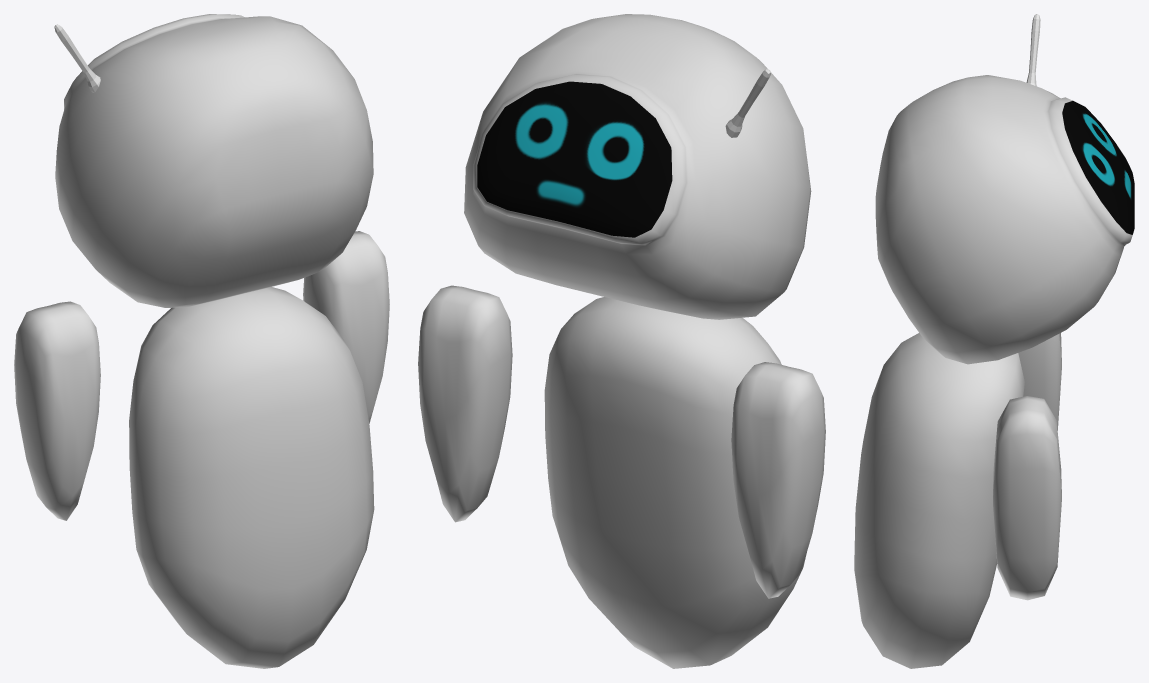
File: Player.fbx
3 renders of one model, left to right at view 1: azimuth 30°, elevation 25°; view 2: azimuth 150°, elevation 25°; view 3: azimuth 270°, elevation 25°, orthographic. The views are drawn at different scales.
Visible parts, largest first — view 1: Player_Body, Player_Arm_Left, Player_Arm_Right; view 2: Player_Body, Player_Arm_Right, Player_Arm_Left; view 3: Player_Body, Player_Arm_Right, Player_Arm_Left.
Part boxes in pixels (x1,y1,x2,y2): Player_Body: (54, 14, 374, 668); Player_Arm_Left: (14, 301, 100, 520); Player_Arm_Right: (303, 231, 389, 423); Player_Body: (464, 14, 811, 668); Player_Arm_Right: (418, 285, 512, 522); Player_Arm_Left: (731, 362, 825, 598); Player_Body: (854, 14, 1134, 668); Player_Arm_Right: (993, 396, 1061, 600); Player_Arm_Left: (1018, 333, 1061, 430).
Bounding box in the file's own units: 162 × 272 × 118.
